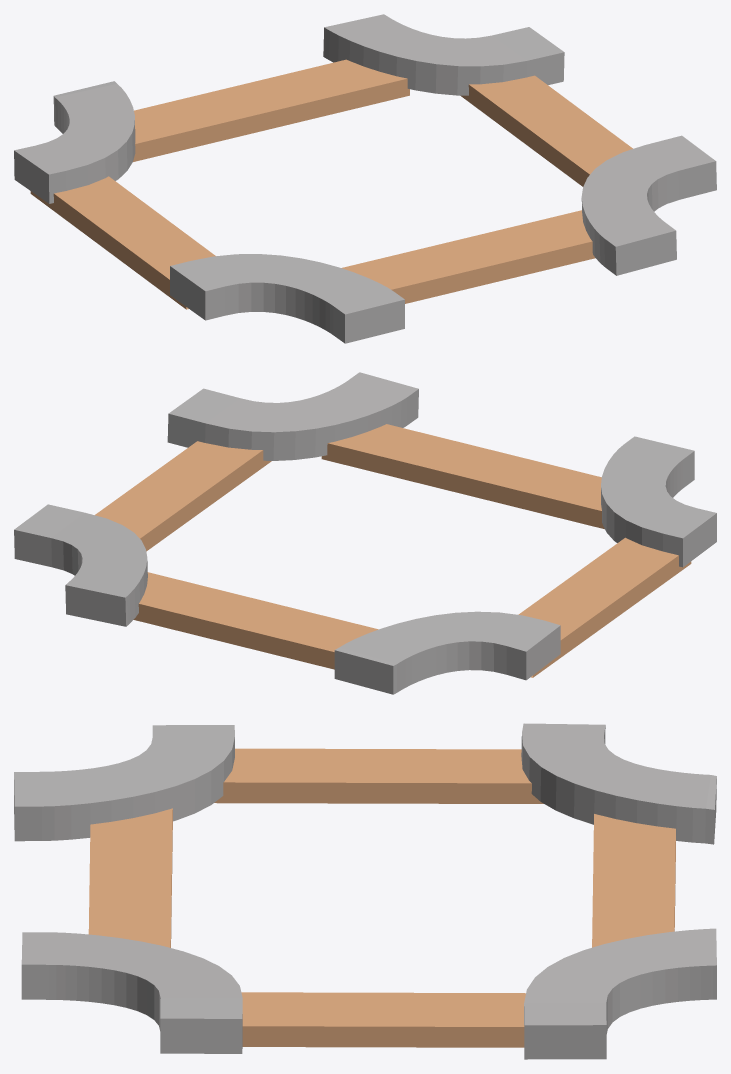
The model's file is Rail4.fbx.
3 renders of one model, top to bottom at view 1: azimuth 30°, elevation 25°; view 2: azimuth 150°, elevation 25°; view 3: azimuth 270°, elevation 25°, orthographic. The views are drawn at different scales.
Parts seen in each view (by area): view 1: Rail_4Way; view 2: Rail_4Way; view 3: Rail_4Way.
Part boxes in pixels (bbox=[...]): Rail_4Way: bbox=[14, 14, 716, 343]; Rail_4Way: bbox=[14, 372, 716, 694]; Rail_4Way: bbox=[14, 723, 716, 1059].
Size of the model in its own units: 2.01 by 0.1409 by 2.
